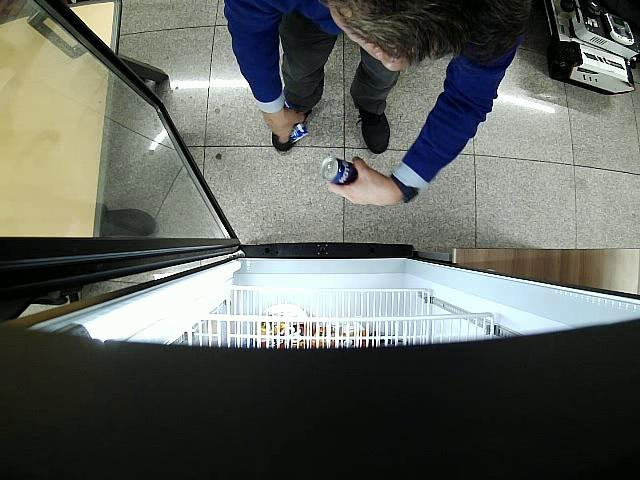00_hand: (328, 156, 391, 204), (263, 113, 304, 145)
16_hot6: (322, 156, 358, 185), (285, 121, 308, 144)
